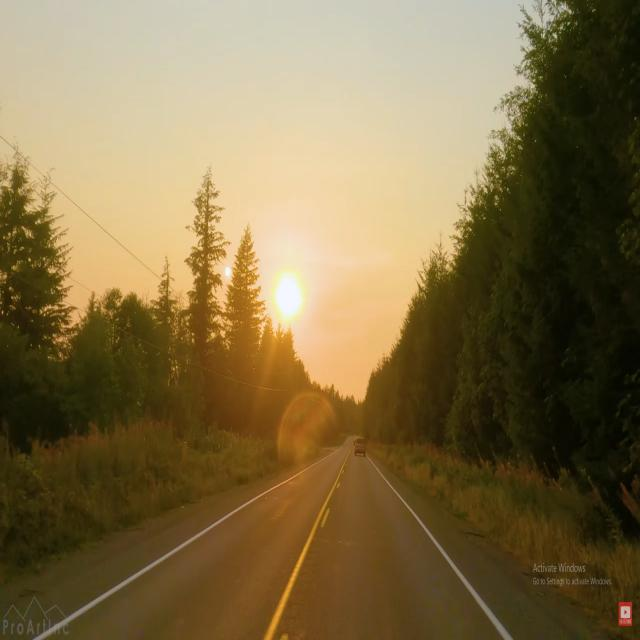sun: (266, 261, 312, 332)
